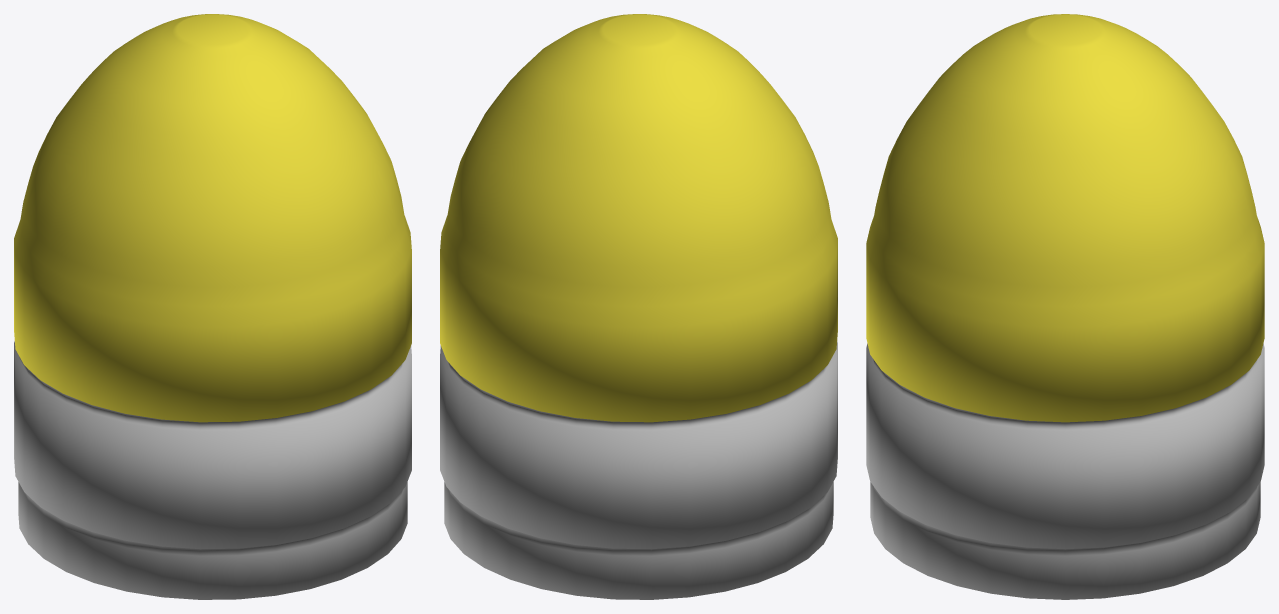
The model's file is 40mm grenade fired grenade.fbx.
The picture shows the model from 3 angles, left to right: view 1: azimuth 30°, elevation 25°; view 2: azimuth 150°, elevation 25°; view 3: azimuth 270°, elevation 25°; orthographic projection.
Parts seen in each view (by area): view 1: Cylinder; view 2: Cylinder; view 3: Cylinder.
Boxes of the visible parts, x1,y1,x2,y2 form: Cylinder: (14,14,411,599); Cylinder: (440,14,837,599); Cylinder: (866,14,1264,599).
Size of the model in its own units: 3.9 by 5.27 by 3.9.
